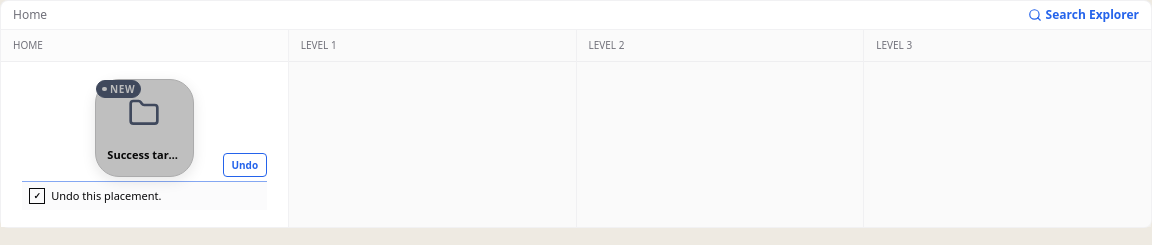
Scenario: HierarchyExplorer Task 157 DP-VQ10 Newly and Undo rail › projects committed success with restoration copy and no stale action
Click the button with aria-label "Undo placement of Success target" at point(245, 165), box top-left (223, 153), bottom-right (267, 177)
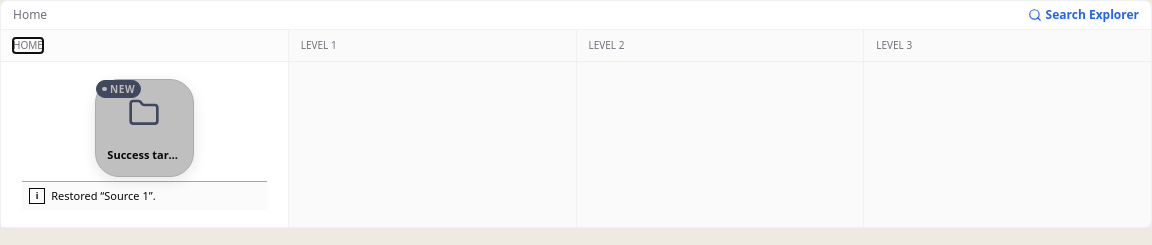
Expected: the text "Restored “Source 1”." is shown, top-left (22, 181), bottom-right (267, 210)
